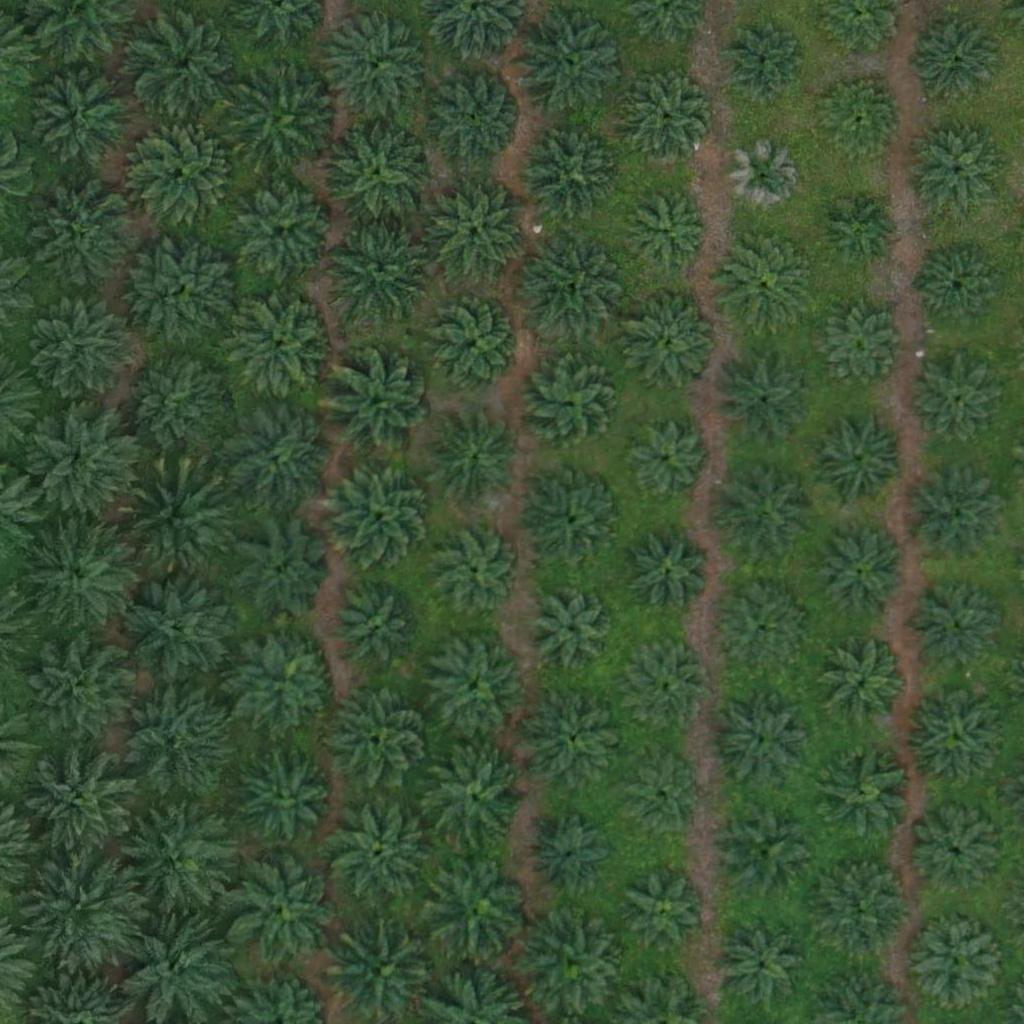Kelapa_Sawit: (228, 60, 341, 174), (320, 117, 433, 231), (328, 216, 441, 330), (26, 291, 139, 404), (515, 7, 628, 120), (322, 348, 435, 461), (324, 458, 437, 571), (123, 571, 236, 684), (119, 681, 232, 794), (28, 405, 141, 518), (19, 518, 132, 631), (25, 635, 138, 748), (27, 853, 140, 966), (124, 801, 237, 914), (318, 10, 430, 124), (515, 232, 627, 346), (25, 746, 137, 860), (27, 62, 139, 175), (131, 11, 243, 124), (130, 235, 242, 348), (121, 351, 233, 464), (120, 466, 232, 579), (228, 855, 340, 968), (323, 794, 435, 907), (35, 186, 135, 287), (133, 122, 233, 223), (235, 179, 335, 280), (521, 123, 621, 224), (719, 232, 819, 333), (902, 466, 1002, 567), (807, 297, 907, 398), (807, 407, 907, 508), (713, 347, 813, 448), (526, 688, 626, 789), (424, 407, 524, 508), (425, 635, 525, 736), (425, 752, 525, 853), (329, 689, 429, 790), (228, 294, 328, 395), (225, 406, 325, 507), (234, 522, 334, 623), (235, 632, 335, 733), (232, 746, 332, 847), (716, 800, 816, 901), (811, 853, 911, 954), (907, 913, 1007, 1014), (425, 67, 525, 167), (427, 184, 527, 284), (905, 686, 1005, 786), (811, 743, 911, 843), (716, 463, 816, 563), (711, 690, 811, 790), (621, 291, 721, 391), (520, 353, 620, 453), (524, 469, 624, 569), (424, 294, 524, 394), (426, 856, 526, 956), (524, 916, 624, 1016), (815, 77, 903, 166), (917, 244, 1005, 333), (913, 809, 1001, 898), (816, 184, 904, 272), (912, 358, 1000, 446), (911, 583, 999, 671), (624, 420, 712, 508), (333, 584, 421, 672), (718, 923, 806, 1011), (625, 77, 712, 165), (913, 20, 1000, 108), (914, 130, 1001, 218), (816, 531, 903, 619), (819, 642, 906, 730), (719, 591, 806, 679), (531, 583, 618, 671), (433, 527, 520, 615), (631, 194, 706, 270), (633, 537, 708, 613), (631, 648, 706, 724), (534, 818, 609, 894), (628, 871, 703, 947), (725, 27, 800, 102), (727, 141, 802, 216), (623, 763, 698, 838)
